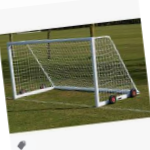goals: (6, 34, 141, 108)
